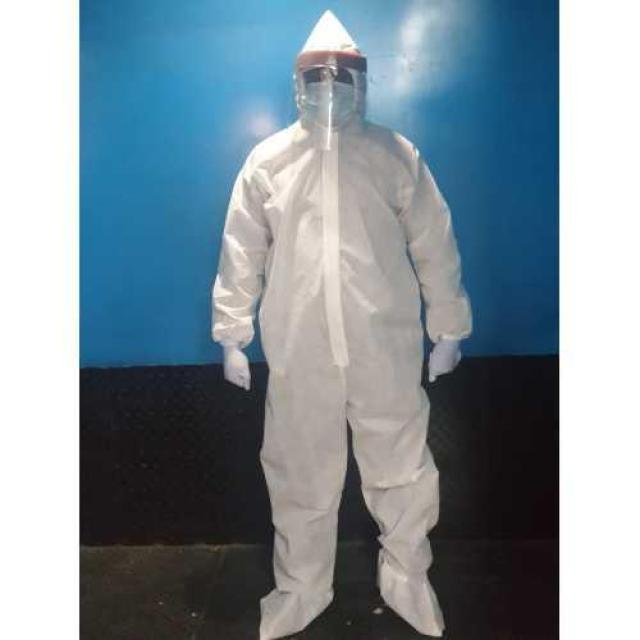Coverall: (205, 9, 475, 637)
Gloves: (421, 324, 469, 384), (218, 332, 255, 394)
Mask: (297, 76, 362, 124)
